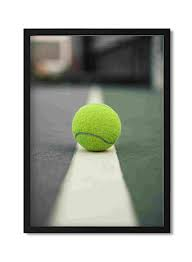tennis_ball: (71, 102, 122, 153)
